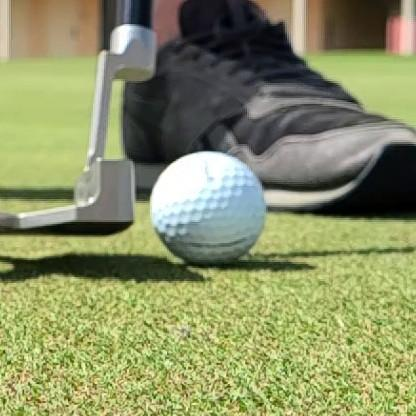golfball: (150, 152, 266, 265)
